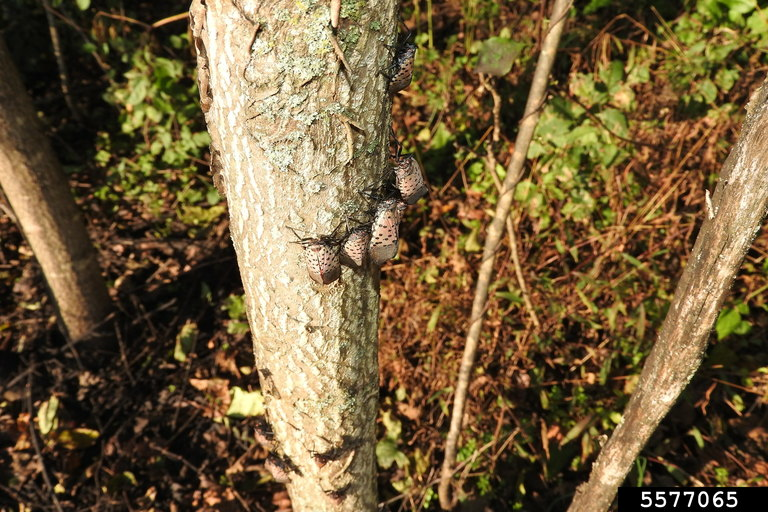adult: (288, 225, 343, 296), (359, 197, 409, 259), (382, 145, 432, 201), (330, 214, 376, 272)
